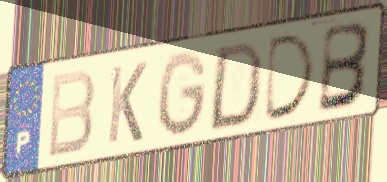B: (315, 19, 375, 117), (45, 67, 97, 162)
D: (205, 38, 267, 134), (261, 29, 319, 126)
G: (157, 48, 210, 141)
K: (105, 59, 150, 147)
